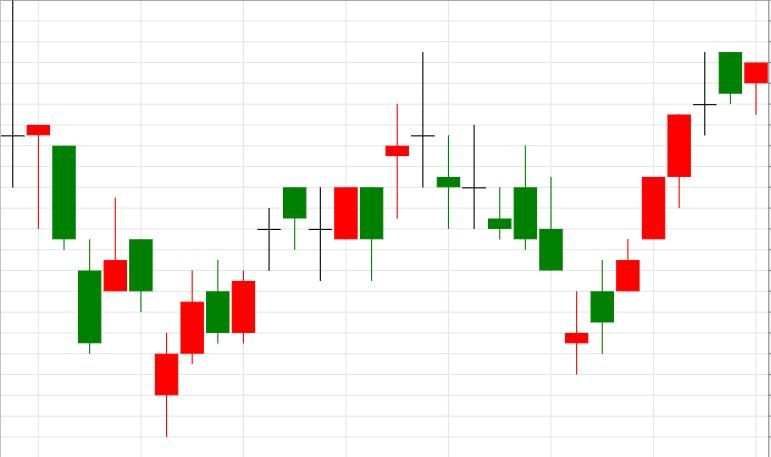three_white_soldiers_rise: (411, 50, 692, 376)
